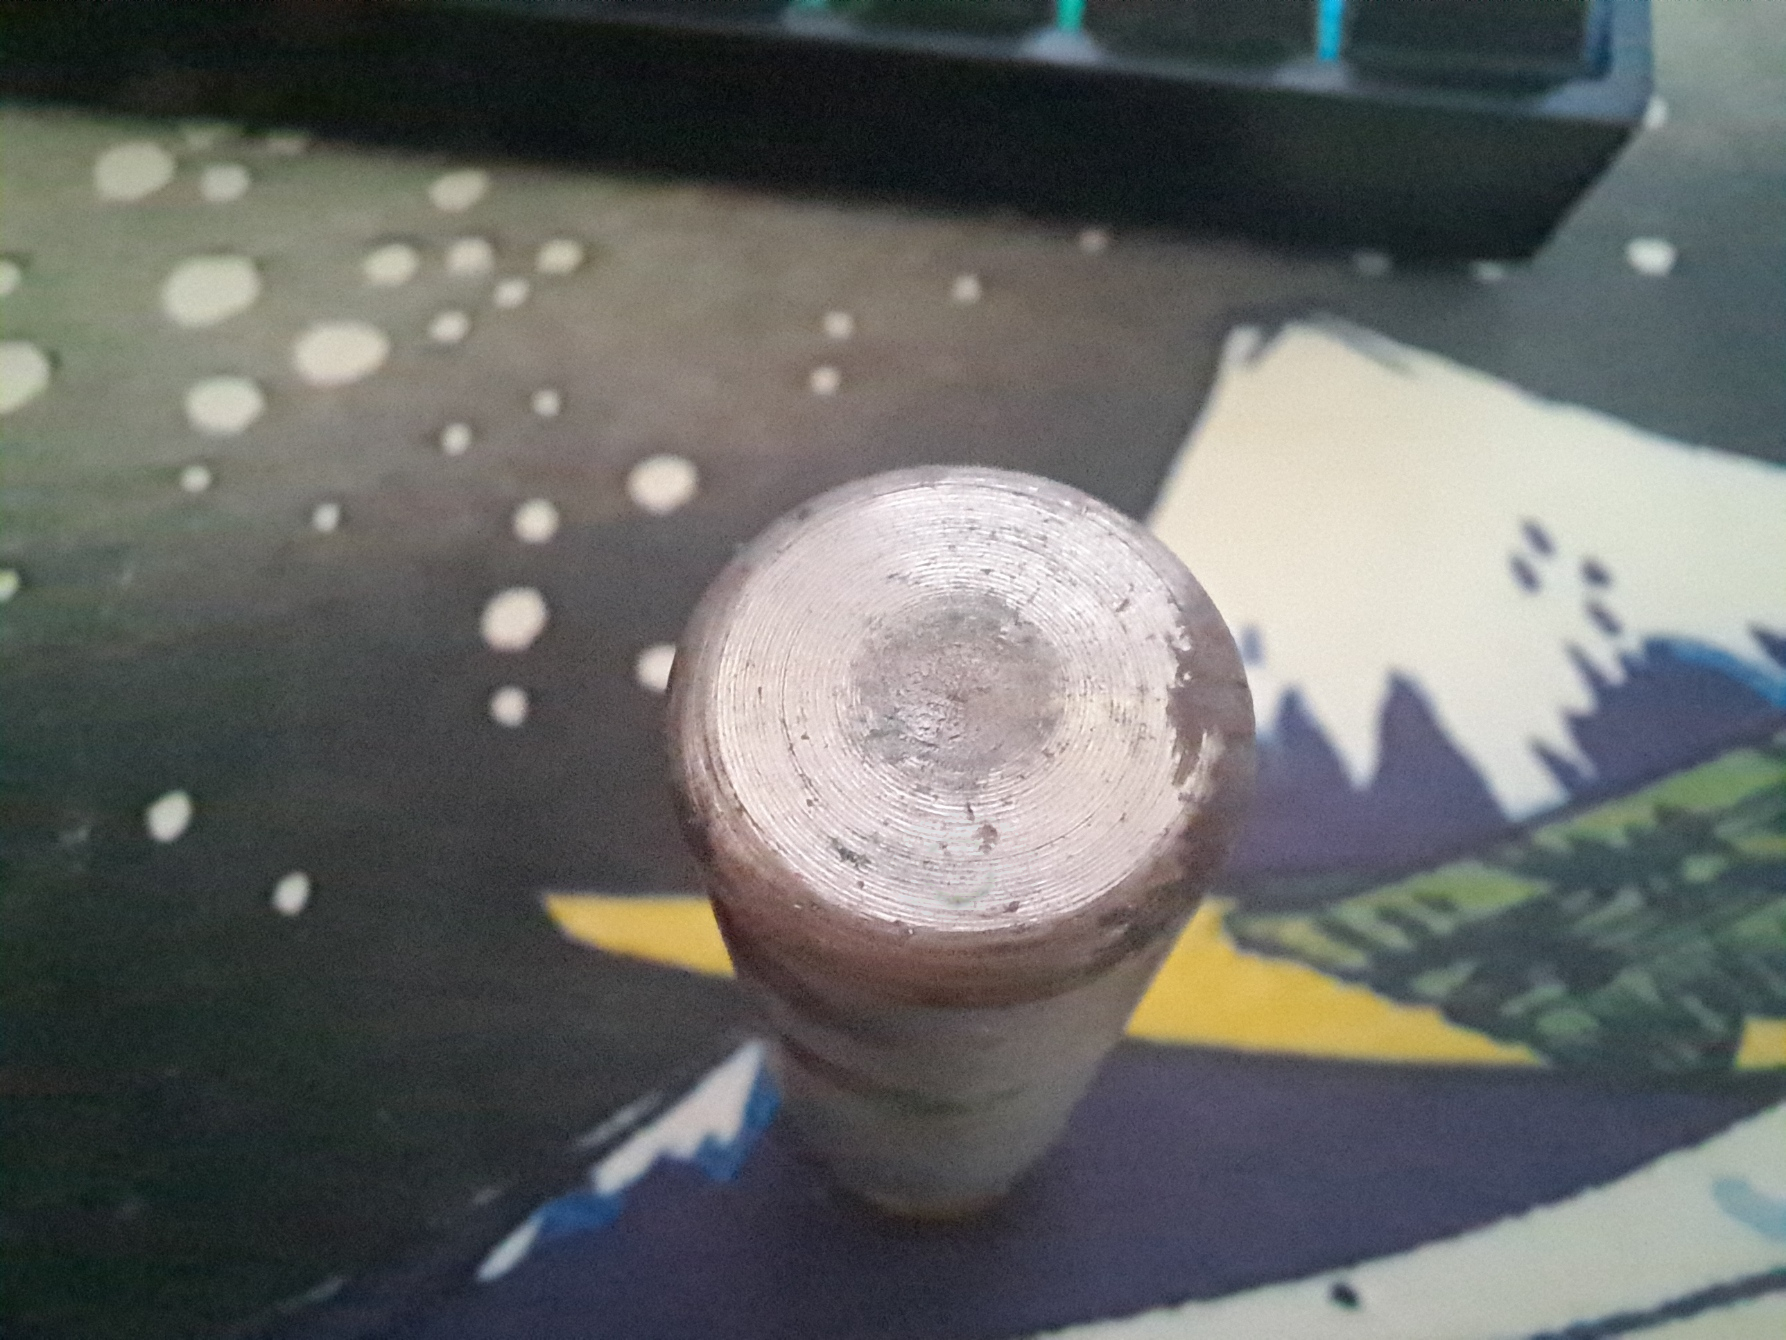плансон: (660, 467, 1254, 1236)
повреждение: (912, 829, 1001, 911)
